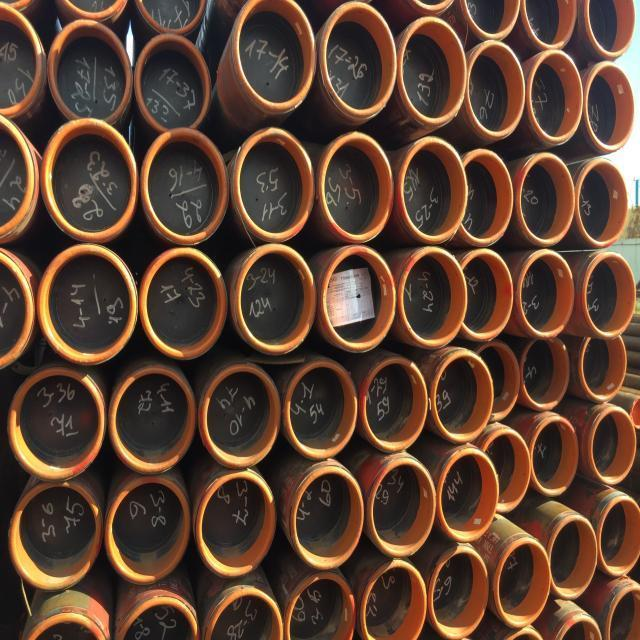pipe: (37, 243, 138, 364), (42, 118, 138, 242), (7, 368, 105, 481), (140, 128, 227, 246), (7, 482, 102, 590), (139, 247, 226, 361), (110, 365, 197, 474), (234, 128, 315, 241), (321, 1, 398, 117), (235, 1, 315, 112), (235, 244, 316, 353), (47, 20, 132, 123), (194, 471, 275, 579), (105, 478, 188, 583), (201, 363, 280, 469), (321, 244, 397, 352), (320, 132, 394, 242), (290, 465, 362, 569), (285, 358, 358, 460), (135, 32, 210, 131), (398, 16, 466, 123), (400, 136, 467, 243), (398, 246, 467, 347), (367, 457, 436, 557), (361, 357, 428, 452), (431, 350, 493, 442), (467, 39, 525, 137), (437, 448, 498, 541), (428, 546, 488, 639), (516, 151, 575, 245), (360, 560, 426, 640), (527, 48, 583, 142), (517, 249, 575, 338), (461, 148, 513, 246), (494, 537, 551, 626), (459, 247, 513, 340), (284, 573, 356, 639), (575, 157, 627, 247), (583, 251, 635, 339), (583, 60, 633, 151), (0, 3, 42, 111), (547, 515, 597, 599), (204, 586, 283, 639), (0, 113, 34, 235), (528, 416, 578, 496), (483, 428, 529, 512), (587, 407, 636, 484), (518, 337, 569, 410), (1, 250, 33, 365), (116, 597, 200, 638), (596, 496, 639, 576), (475, 342, 519, 420), (578, 332, 626, 402), (585, 0, 635, 57), (521, 1, 577, 49), (136, 0, 208, 32), (23, 613, 108, 639), (460, 1, 519, 38), (607, 584, 640, 638)
